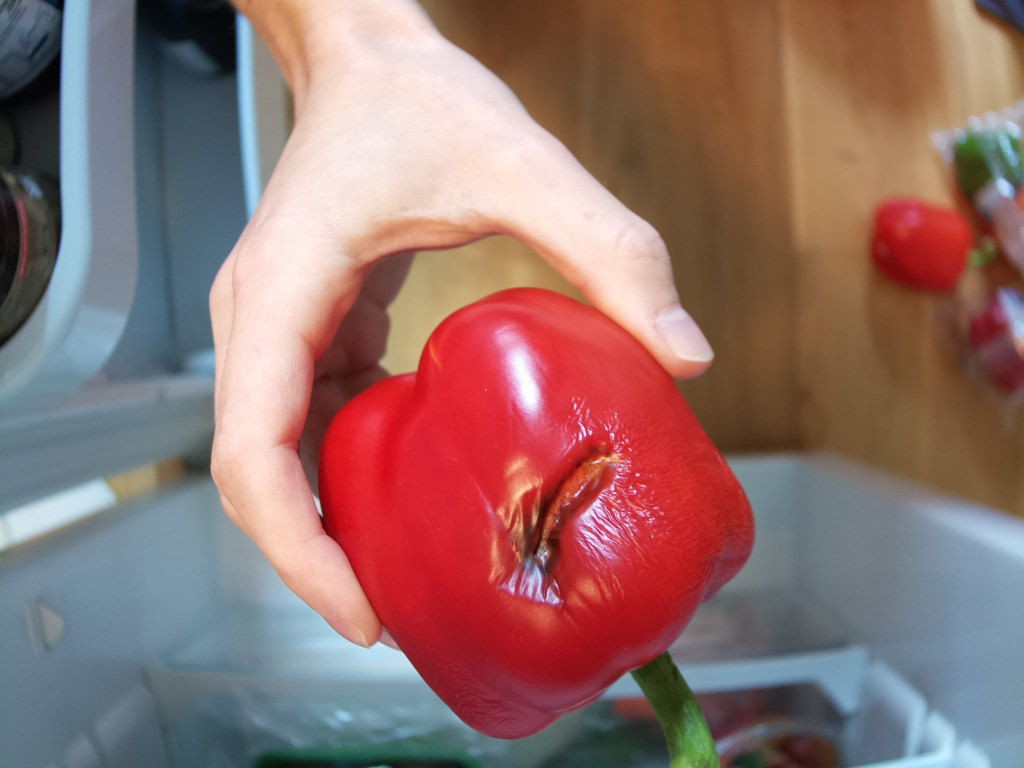pepper-bad: (313, 290, 750, 768)
